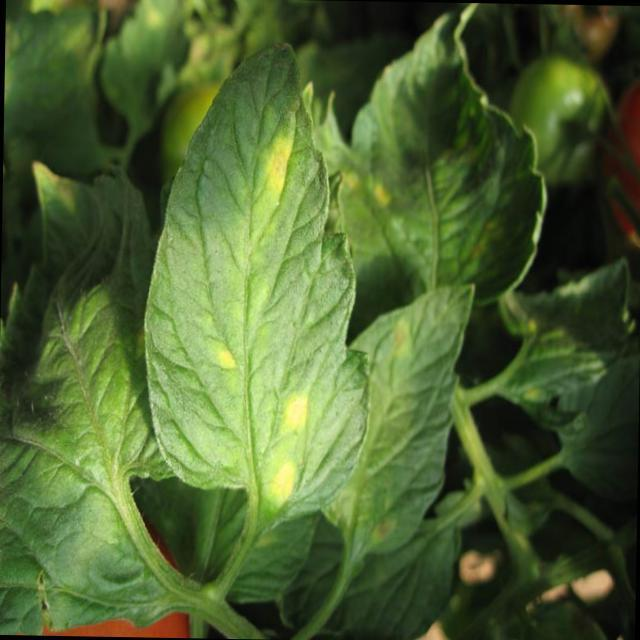Mosaic Virus: (178, 103, 338, 506)
